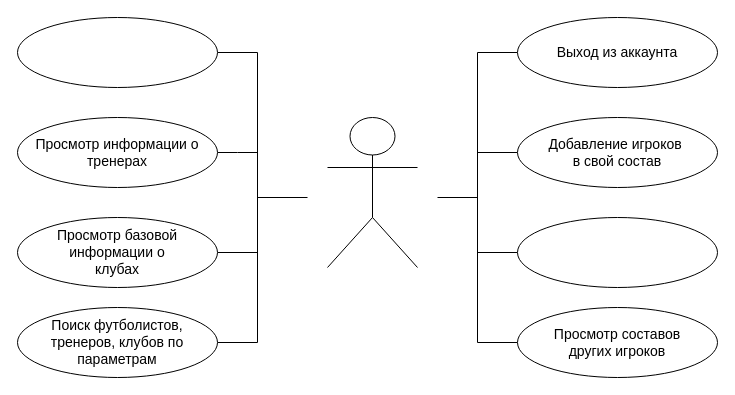
This 735x395 diagram has some shape labels left out. The shapes that lost their labels are listed below. From the top down, each one's centre as x and y in pixels, then its label:
At point 117,52: "Просмотр базовой информации о футболистах".
At point 372,192: "Авторизированный пользователь".
At point 617,252: "Просмотр актуальной цены футболистов на рынке".
